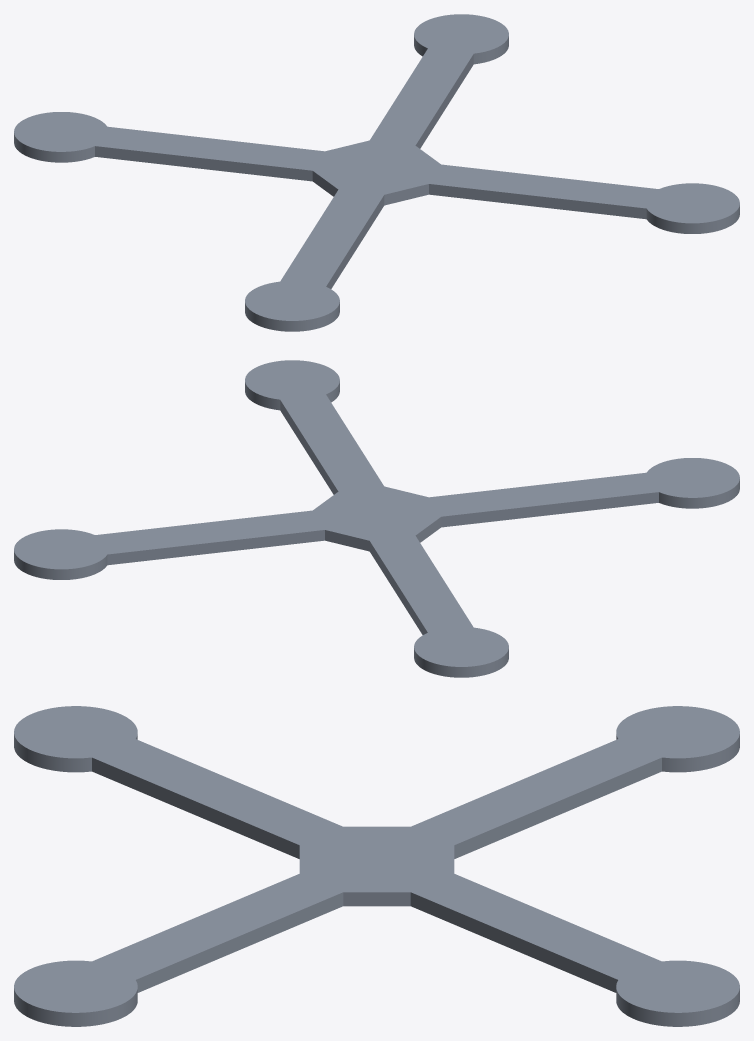
File: step-2-preview-1.glb
3 renders of one model, top to bottom at view 1: azimuth 30°, elevation 25°; view 2: azimuth 150°, elevation 25°; view 3: azimuth 270°, elevation 25°, orthographic. The views are drawn at different scales.
Parts seen in each view (by area): view 1: preview_3, preview_9, preview_14, preview_17, preview_16, preview_15, preview_2, preview_11, preview_0; view 2: preview_3, preview_4, preview_12, preview_15, preview_0, preview_17, preview_8, preview_7, preview_16; view 3: preview_3, preview_7, preview_11, preview_2, preview_8, preview_0, preview_16, preview_15, preview_17, preview_5.
Part boxes in pixels (box(x1,y1,x2,y2)): preview_3: box(14, 14, 739, 320); preview_9: box(429, 184, 646, 219); preview_14: box(95, 146, 312, 181); preview_17: box(245, 302, 339, 331); preview_16: box(646, 205, 739, 233); preview_15: box(14, 133, 94, 162); preview_2: box(415, 54, 473, 148); preview_11: box(326, 195, 384, 288); preview_0: box(414, 35, 508, 64); preview_3: box(14, 360, 739, 666); preview_4: box(107, 530, 324, 565); preview_12: box(441, 492, 658, 527); preview_15: box(414, 648, 508, 677); preview_0: box(14, 551, 107, 579); preview_17: box(659, 479, 739, 508); preview_8: box(280, 400, 338, 494); preview_7: box(369, 541, 427, 634); preview_16: box(245, 381, 339, 410); preview_3: box(14, 706, 739, 1012); preview_7: box(454, 757, 661, 858); preview_11: box(92, 757, 299, 858); preview_2: box(410, 892, 617, 992); preview_8: box(136, 892, 343, 992); preview_0: box(616, 988, 739, 1026); preview_16: box(14, 988, 137, 1026); preview_15: box(616, 734, 739, 772); preview_17: box(14, 734, 137, 772); preview_5: box(343, 892, 410, 906).
Bounding box in the file's own units: 0.1875 × 0.004 × 0.1875.
